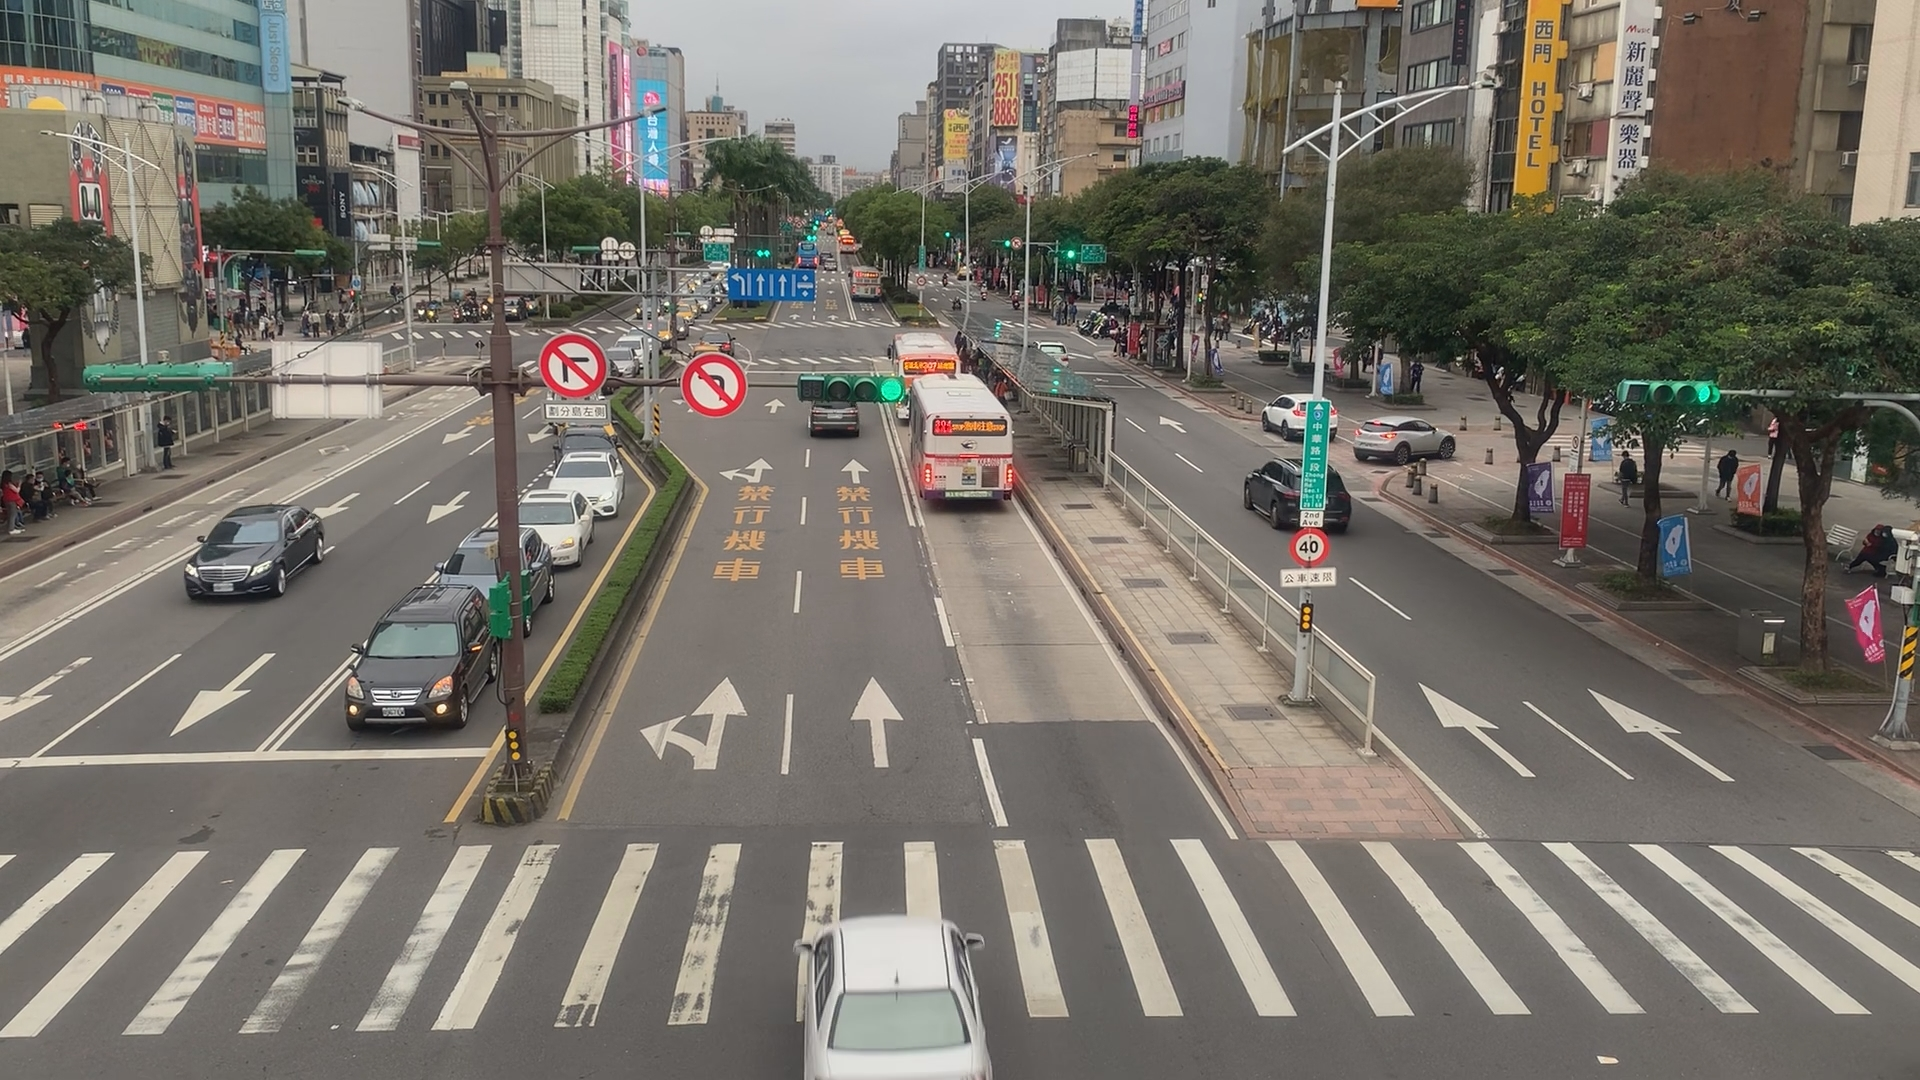Bus: (914, 372, 1027, 514), (891, 319, 964, 419), (841, 258, 887, 306), (794, 239, 822, 274)
Private Passenger Car: (799, 906, 1007, 1080), (328, 582, 504, 727), (167, 498, 324, 603), (436, 524, 559, 636), (498, 489, 611, 567), (1240, 462, 1360, 531), (1356, 404, 1466, 462), (547, 454, 629, 527), (1254, 381, 1340, 442), (807, 393, 876, 443), (553, 425, 615, 467), (588, 345, 646, 385), (1027, 345, 1081, 385)
